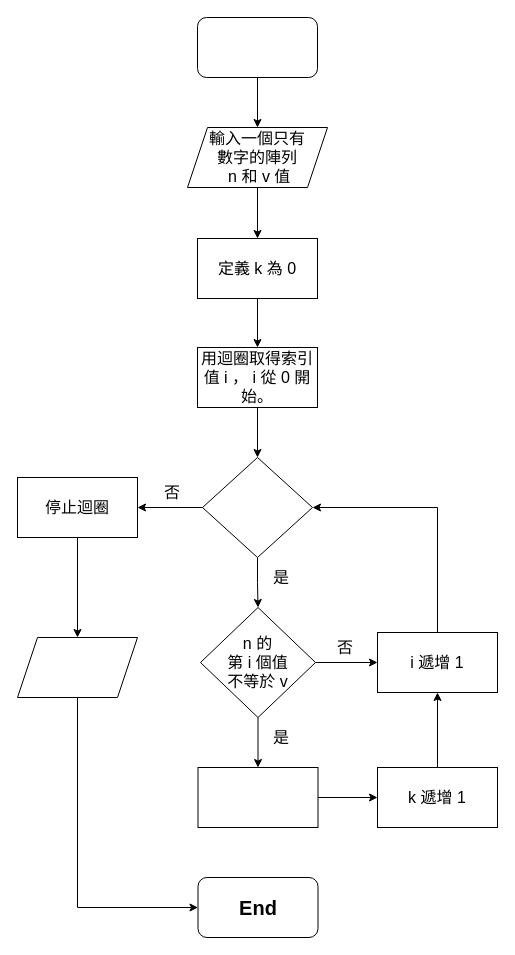
This 515x955 diagram has some shape labels left out. Here are the shapes that lost their labels. From the top down, the box of each, then its label:
(196, 16, 318, 78): Start
(202, 456, 312, 558): i 小於 n 的長度
(16, 636, 138, 698): 回傳 k
(197, 766, 318, 828): 將 n 的第 i 個值 賦予至 n 的第 k 個值
